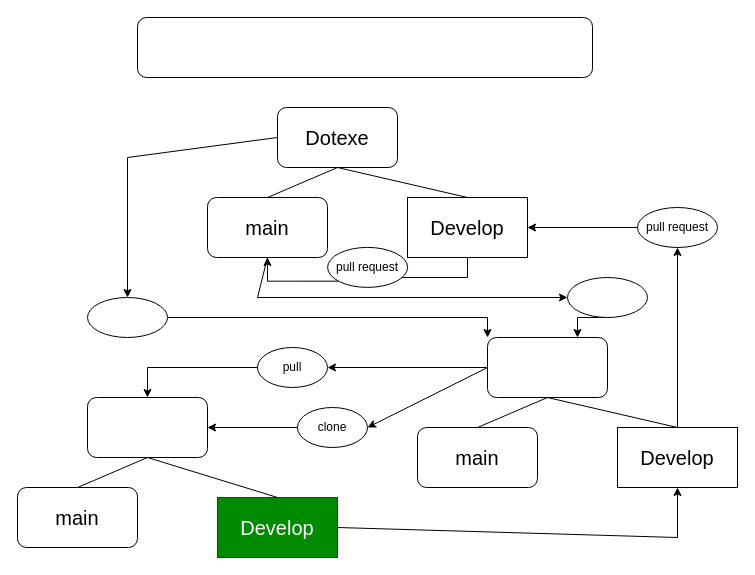
The diagram is 755 pixels wide and 575 high, and some of its shapes have lost their labels. Each missing label, with the centre of its shape:
"fork" goes at point (127, 317).
"Forked" goes at point (547, 367).
"Git Branch diagram" goes at point (364, 47).
"Local clone" goes at point (147, 427).
"sync" goes at point (607, 297).
